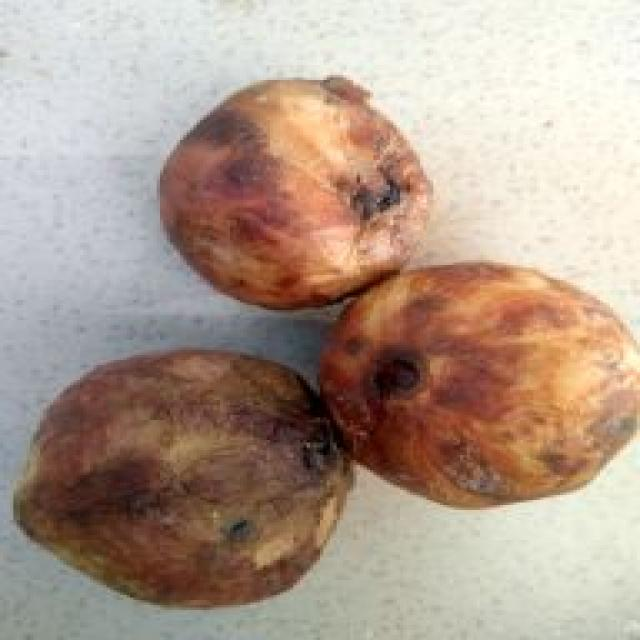Bad_Guava: (15, 350, 352, 606), (160, 76, 428, 308)
